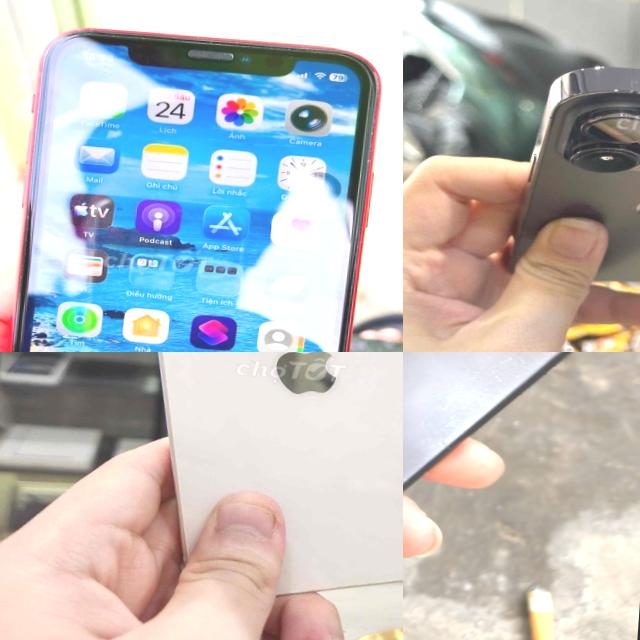gen_11: (0, 0, 388, 352)
gen_12_13: (97, 352, 403, 612)
gen_14: (493, 41, 640, 318)
gen_7_8: (403, 352, 640, 640)
